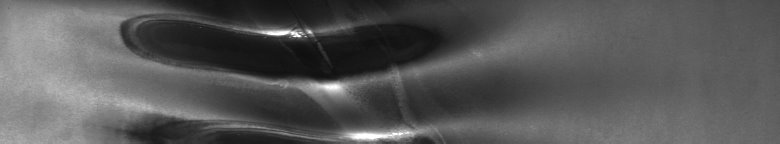ke: (114, 4, 481, 136)
